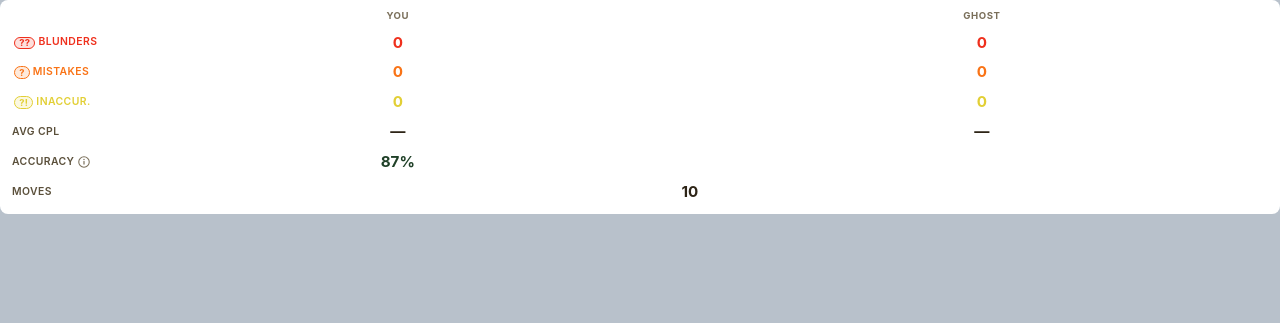
it: GameReviewStats accuracy info button › toggles an explanatory popup when the info button is clicked
Expected: the text "Accuracy" is shown, [12,154,74,170]
Click the button named "what does accuracy mean" at x=84, y=162, box [78,156,90,168]
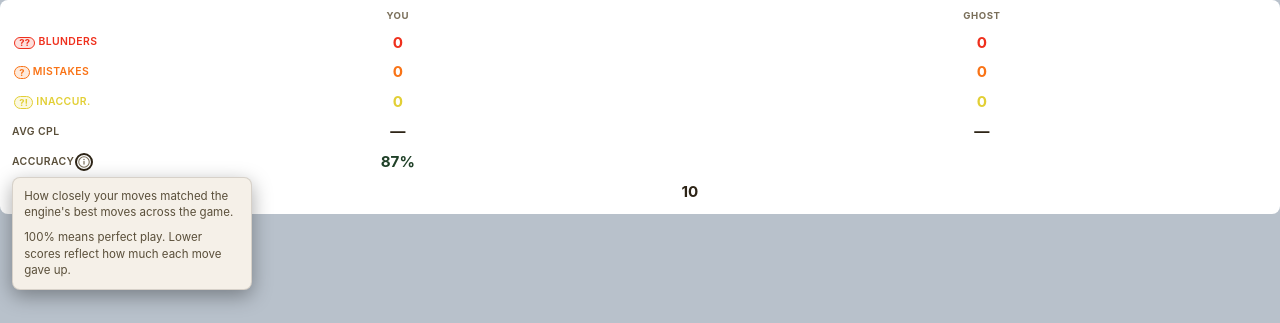
Expected: the tooltip shows "How closely your moves matched the engine", [24,188,233,219]
Expected: the tooltip shows "100% means perfect play", [24,230,222,277]
Click the button named "what does accuracy mean" at x=84, y=162, box [78,156,90,168]
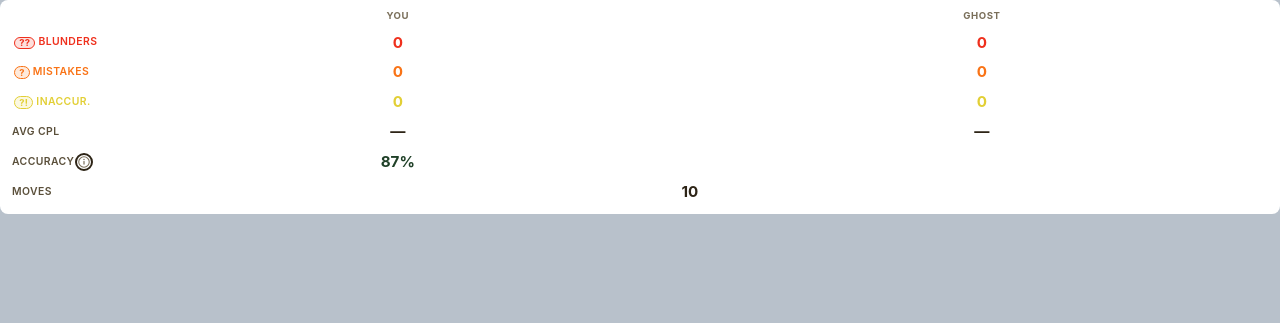
Expected: the tooltip is gone
